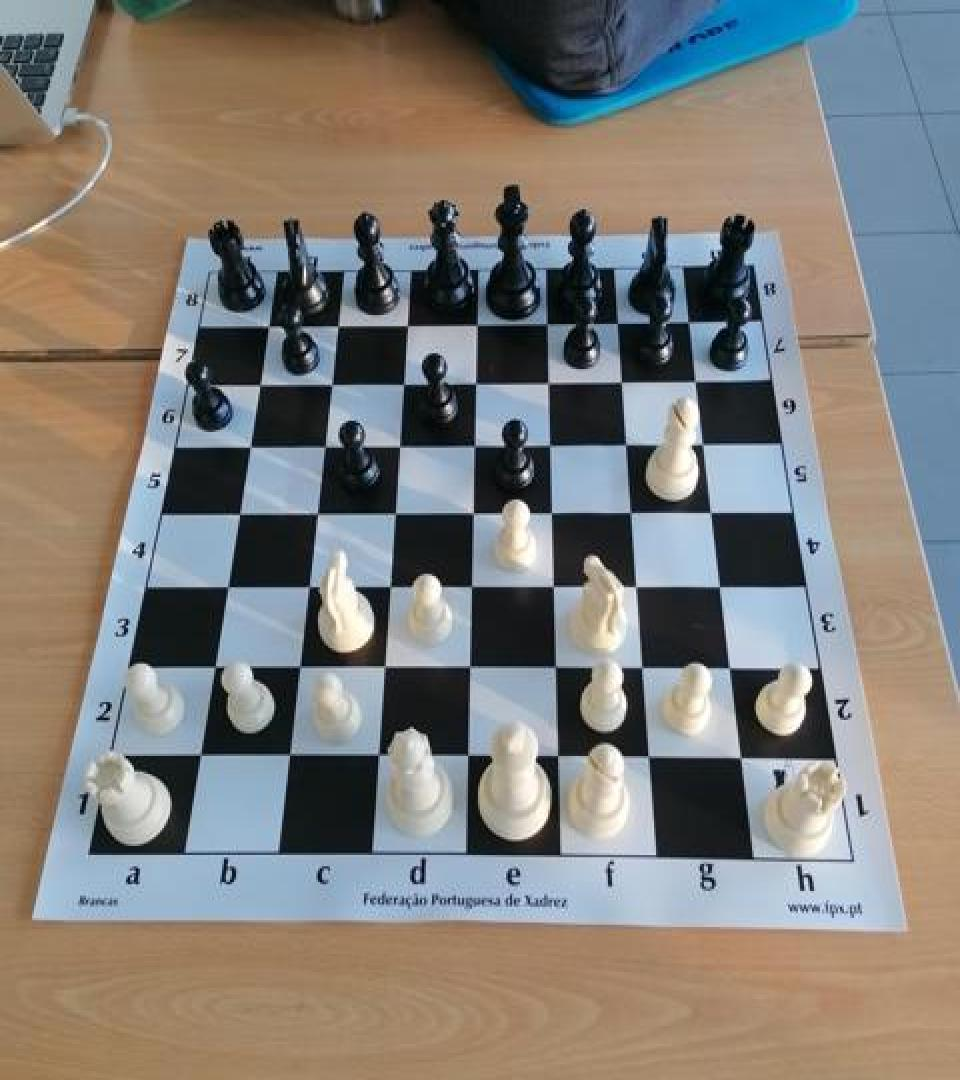xcorner: (208, 571, 240, 608), (195, 652, 227, 689), (290, 572, 322, 609), (281, 652, 313, 689), (271, 741, 303, 778), (372, 572, 404, 609), (367, 653, 399, 690), (361, 742, 393, 779), (456, 572, 488, 609), (454, 653, 486, 690), (452, 742, 484, 779), (539, 572, 571, 609), (623, 572, 655, 609), (707, 572, 739, 609), (248, 306, 280, 342), (239, 366, 271, 402), (230, 428, 262, 464), (219, 497, 251, 533), (182, 740, 214, 776), (319, 306, 351, 342), (313, 364, 345, 400), (306, 428, 338, 464), (298, 497, 330, 533), (390, 305, 422, 341), (386, 364, 418, 400), (382, 428, 414, 464), (377, 497, 409, 533), (461, 305, 493, 341), (460, 364, 492, 400), (459, 428, 491, 464), (457, 497, 489, 533), (533, 305, 565, 341), (534, 364, 566, 400), (536, 428, 568, 464), (537, 497, 569, 533), (541, 655, 573, 691), (543, 744, 575, 780), (605, 304, 637, 340), (609, 364, 641, 400), (613, 428, 645, 464), (618, 497, 650, 533), (628, 655, 660, 691), (634, 745, 666, 781), (677, 304, 709, 340), (684, 364, 716, 400), (691, 428, 723, 464), (699, 497, 731, 533), (717, 656, 749, 692), (727, 745, 759, 781)
